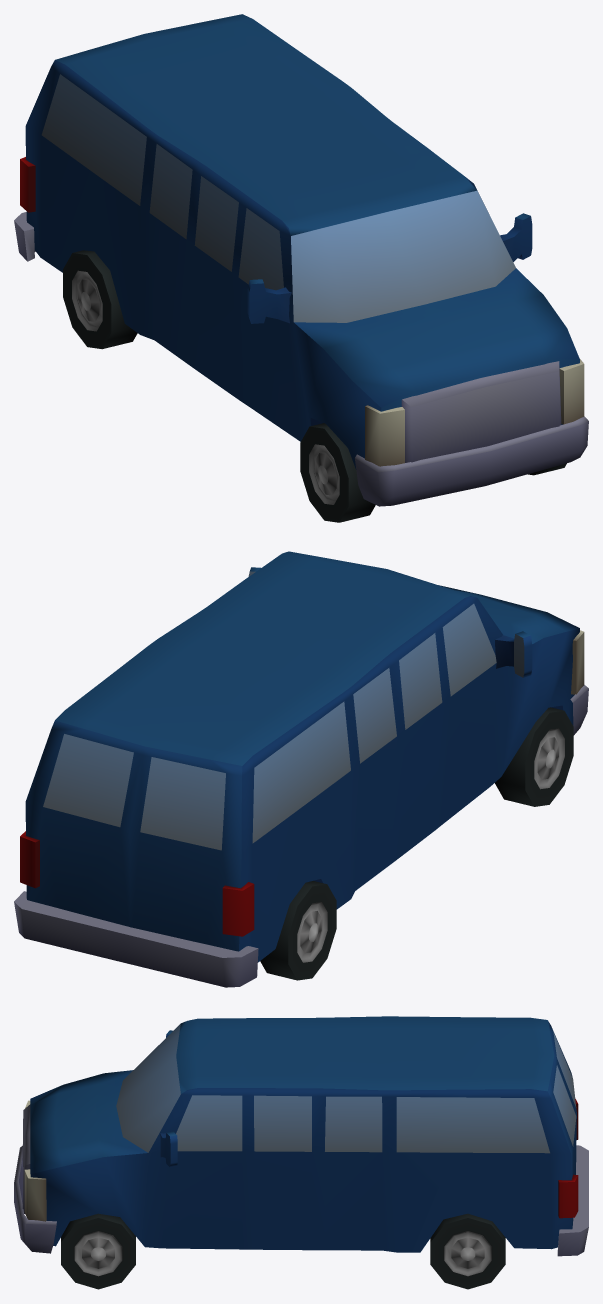
Rendered from vehicles-trucks-vans-passenger-van_v1.fbx.
The picture shows the model from 3 angles, top to bottom: view 1: azimuth 30°, elevation 25°; view 2: azimuth 150°, elevation 25°; view 3: azimuth 270°, elevation 25°; orthographic projection. The views are drawn at different scales.
Parts seen in each view (by area): view 1: Passenger Van; view 2: Passenger Van; view 3: Passenger Van.
Part boxes in pixels (<box>): Passenger Van: <box>14,14,588,522</box>; Passenger Van: <box>14,551,588,987</box>; Passenger Van: <box>14,1016,588,1289</box>.
Bounding box in the file's own units: 2.44 × 2.05 × 5.5.
